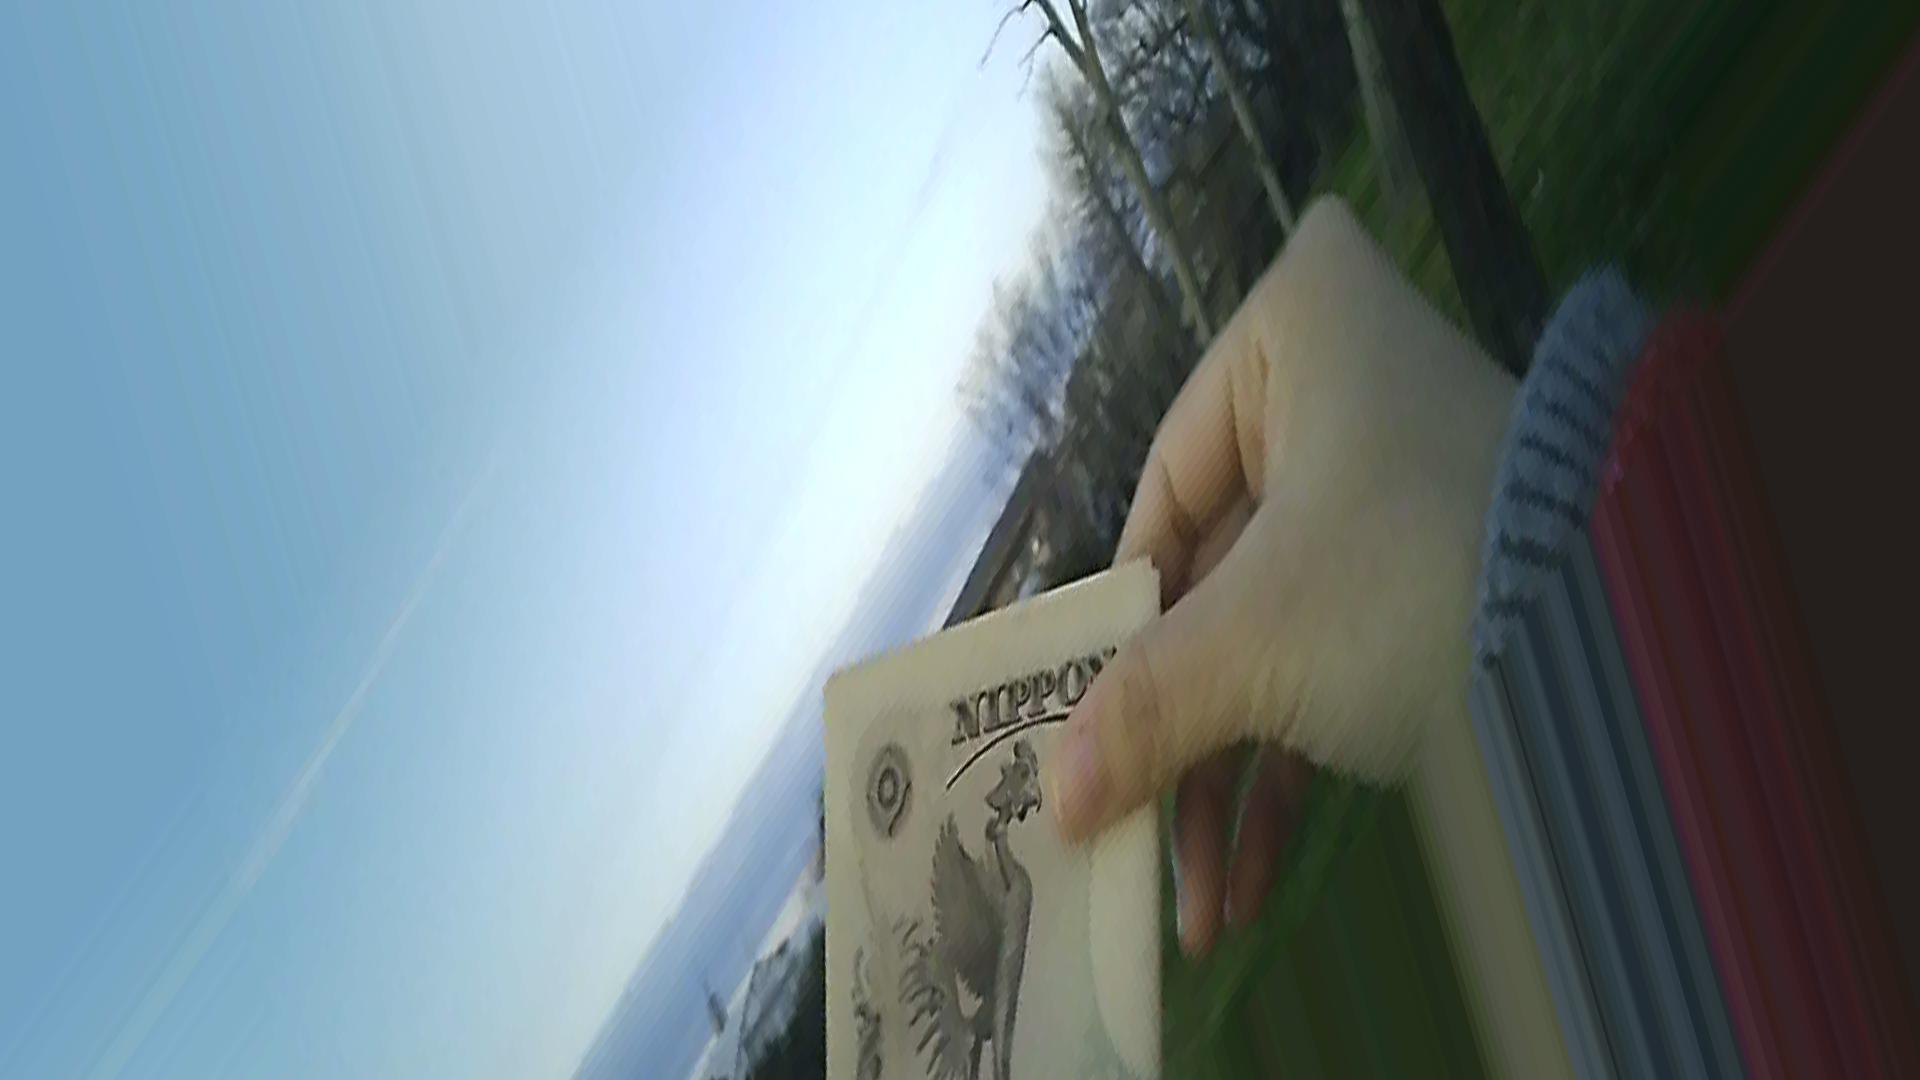10,000 Yen: (800, 609, 1211, 1079)
